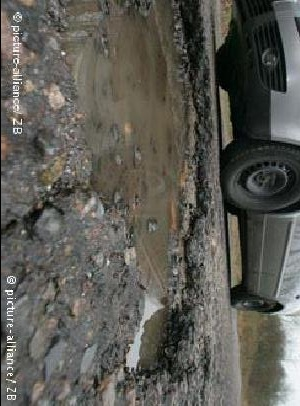pothole: (44, 0, 217, 388)
